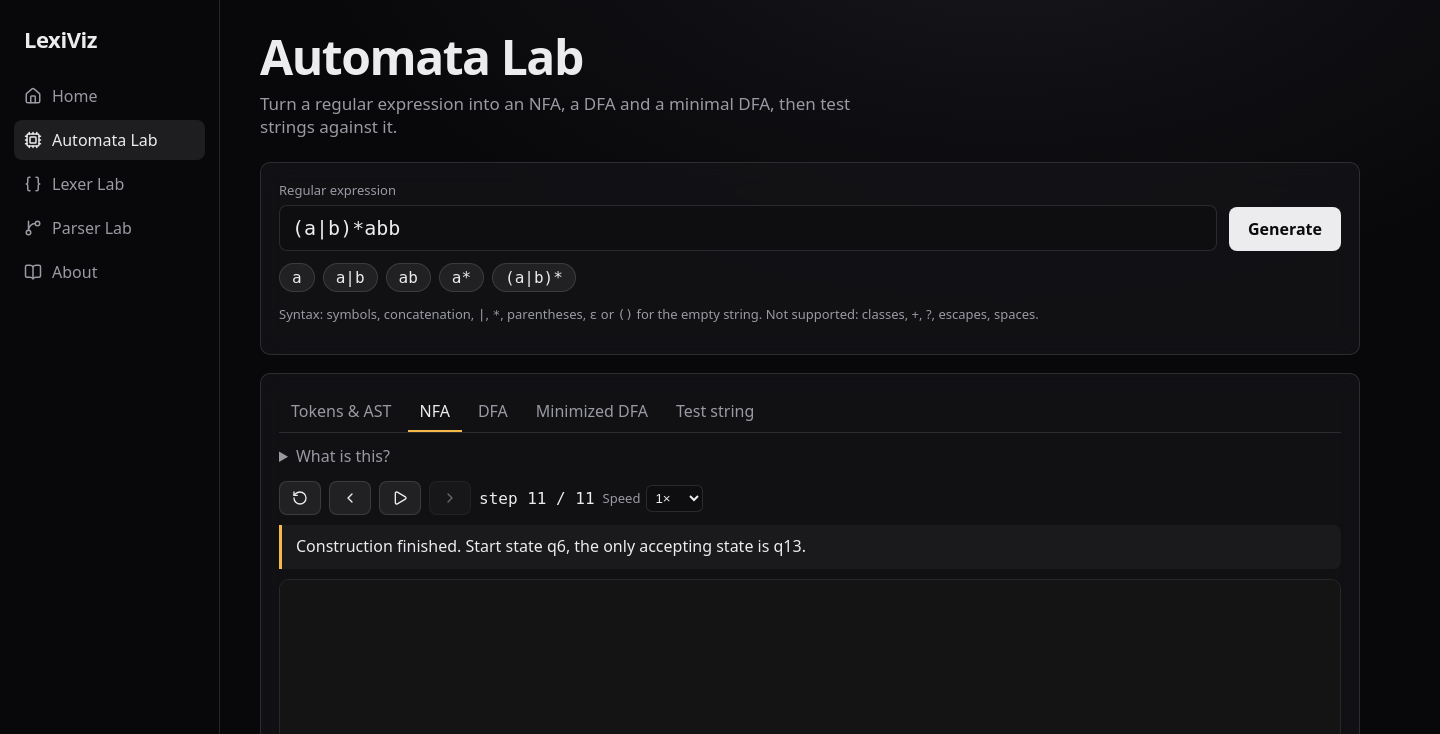
it: Automata Lab UI › warns about symbols outside the alphabet
Click the tab "Test string" at point(715, 412), box [664,392,766,432]
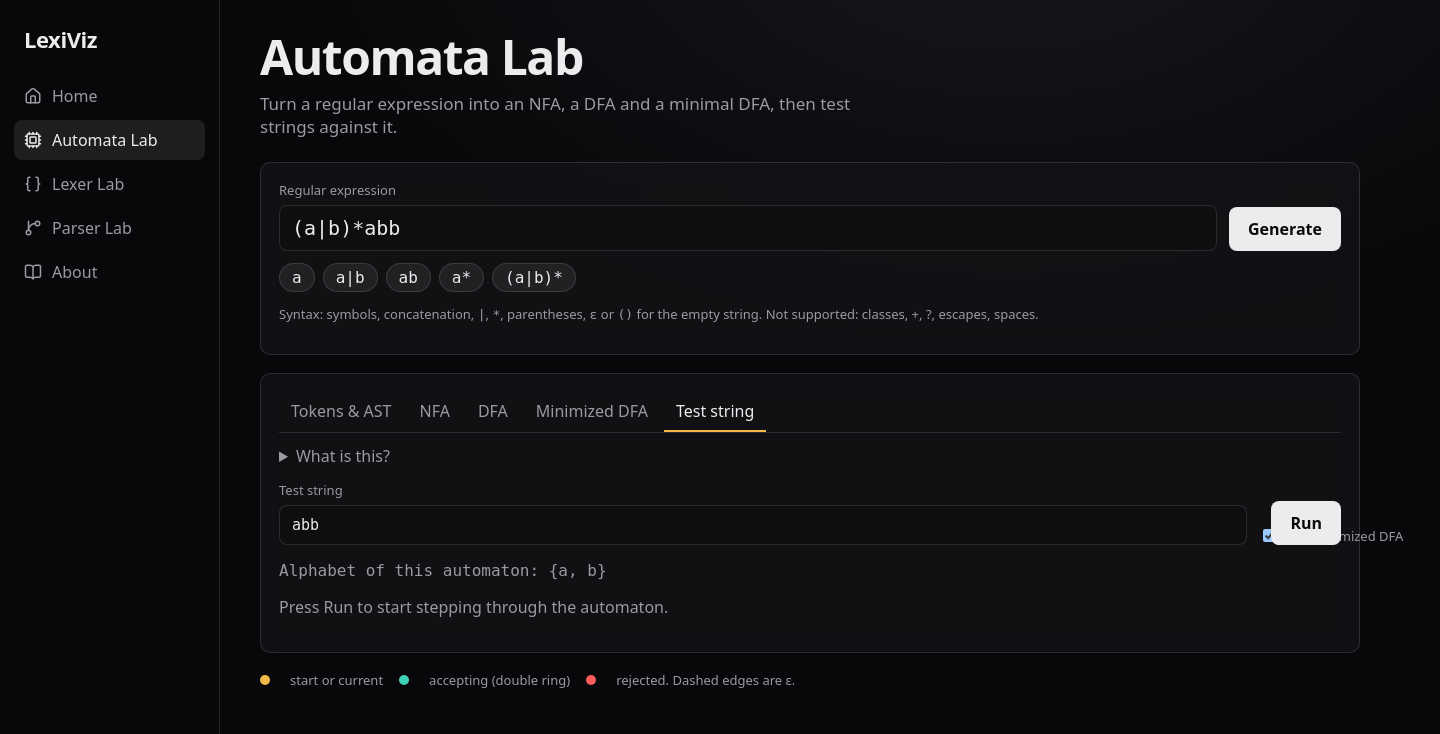
Replace the text in the field labelled "Test string" with "abz" at point(763, 525), box [279,505,1247,545]
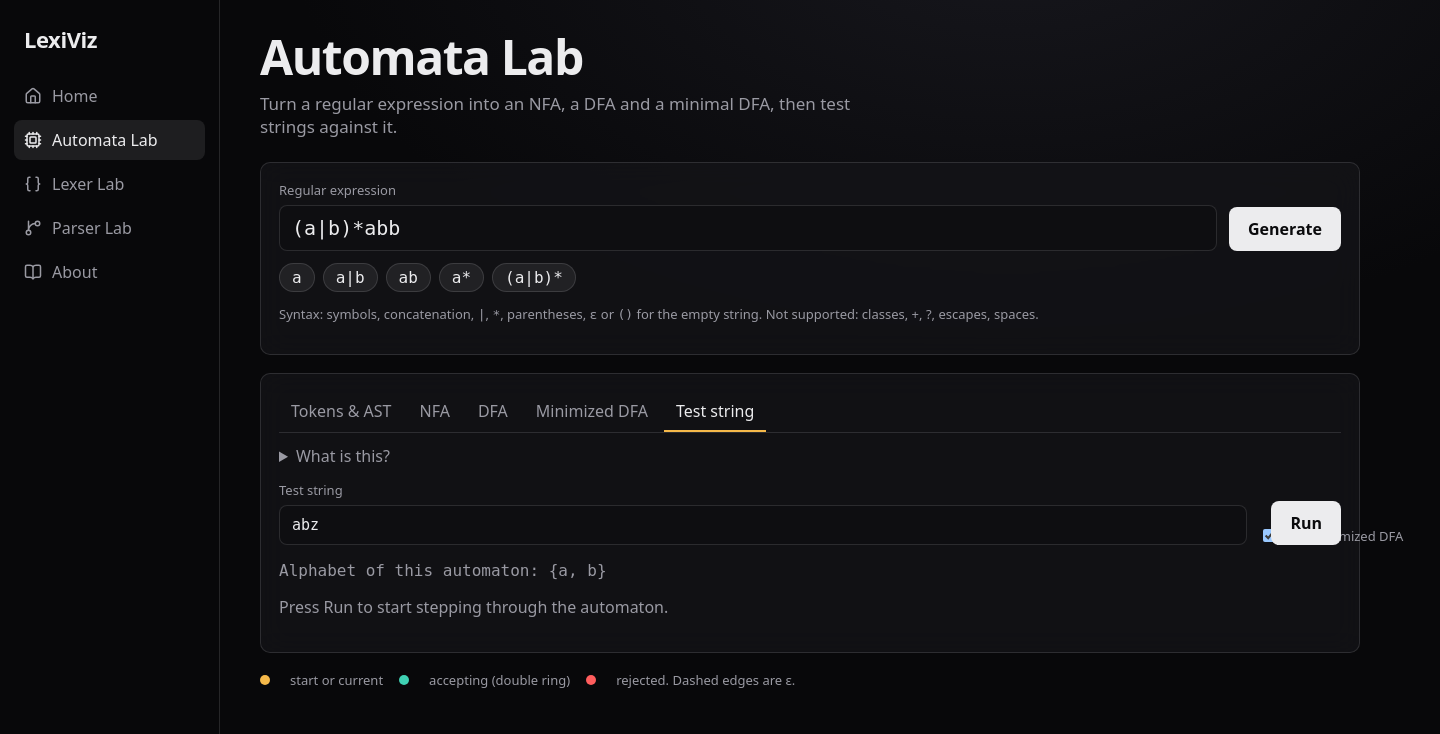
Click the button "Run" at point(1306, 523), box [1271,501,1341,545]
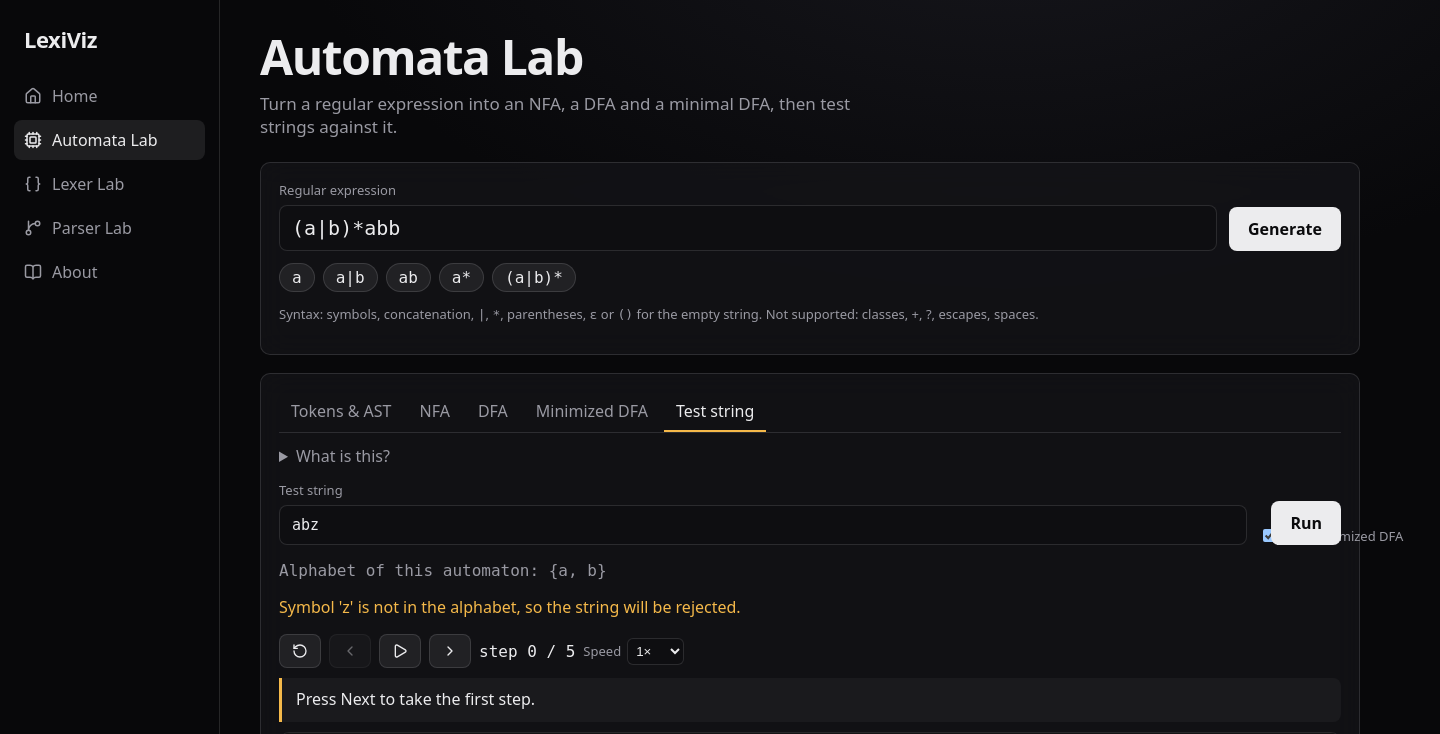
Expected: the message shows "'z'", [339,596,353,618]
